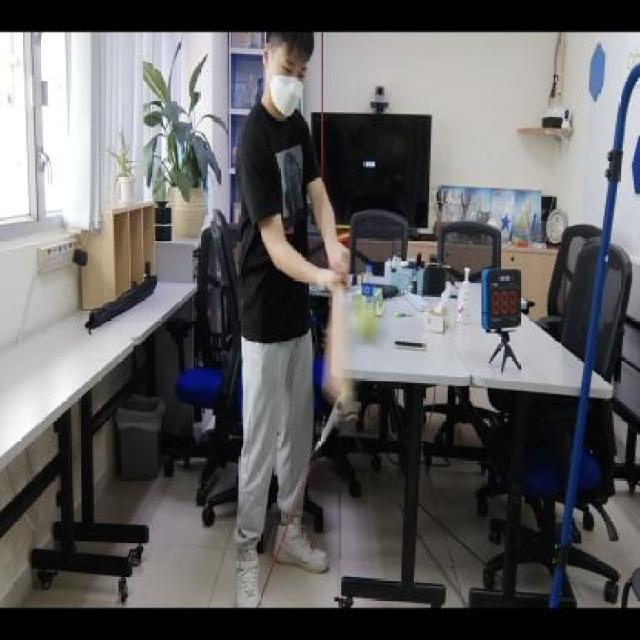baseball: (353, 304, 379, 350)
